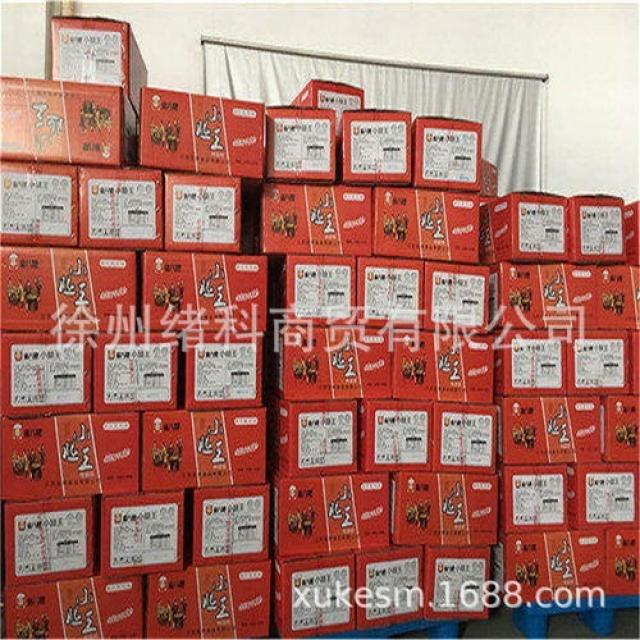box: (1, 412, 140, 500), (137, 84, 263, 177), (3, 244, 136, 329), (1, 74, 124, 165), (141, 406, 266, 490), (272, 468, 392, 554), (142, 248, 266, 328), (50, 18, 147, 120), (144, 560, 272, 637), (270, 322, 396, 399), (3, 574, 146, 639), (1, 494, 95, 585), (389, 327, 494, 406), (495, 526, 607, 599), (491, 391, 604, 463), (1, 330, 94, 417), (376, 186, 479, 264), (264, 183, 374, 256), (390, 472, 500, 545), (266, 391, 358, 477), (97, 488, 186, 576), (76, 163, 165, 247), (488, 263, 597, 331), (273, 549, 357, 636), (1, 159, 77, 249), (181, 327, 264, 409), (93, 330, 178, 410), (192, 482, 272, 565), (477, 194, 569, 265), (268, 254, 358, 323), (164, 170, 240, 250), (353, 545, 423, 627), (357, 399, 434, 469), (422, 543, 494, 616), (410, 117, 481, 190), (421, 258, 490, 333), (495, 329, 569, 397), (268, 108, 335, 183), (356, 254, 423, 329), (343, 112, 411, 185), (498, 461, 568, 531), (567, 461, 639, 529), (291, 77, 365, 143), (434, 401, 496, 473), (566, 331, 634, 394), (567, 195, 625, 260), (596, 261, 639, 331), (600, 396, 639, 461), (605, 526, 639, 593), (621, 204, 639, 265), (477, 158, 498, 196), (629, 329, 639, 396)
